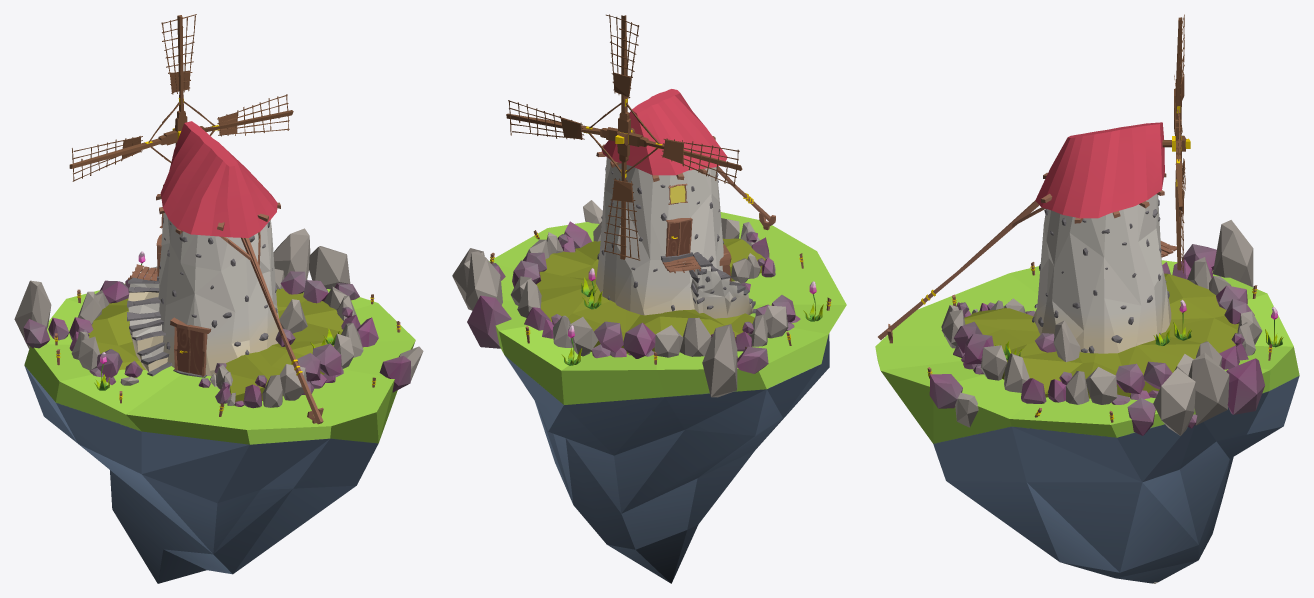
File: windmill.glb
3 views of the same model, side by side, from view 1: azimuth 30°, elevation 25°; view 2: azimuth 150°, elevation 25°; view 3: azimuth 270°, elevation 25° (orthographic). The views are drawn at different scales.
Parts seen in each view (by area): view 1: base, shovel; view 2: base, shovel; view 3: base, shovel.
Boxes of the visible parts, x1,y1,x2,y2 form: base: (14, 121, 423, 583); shovel: (69, 14, 293, 181); base: (452, 89, 846, 583); shovel: (506, 14, 742, 260); base: (875, 122, 1299, 583); shovel: (1162, 14, 1190, 273).
Bounding box in the file's own units: 34.63 × 56.19 × 37.06.
3 materials, 3 textured.
